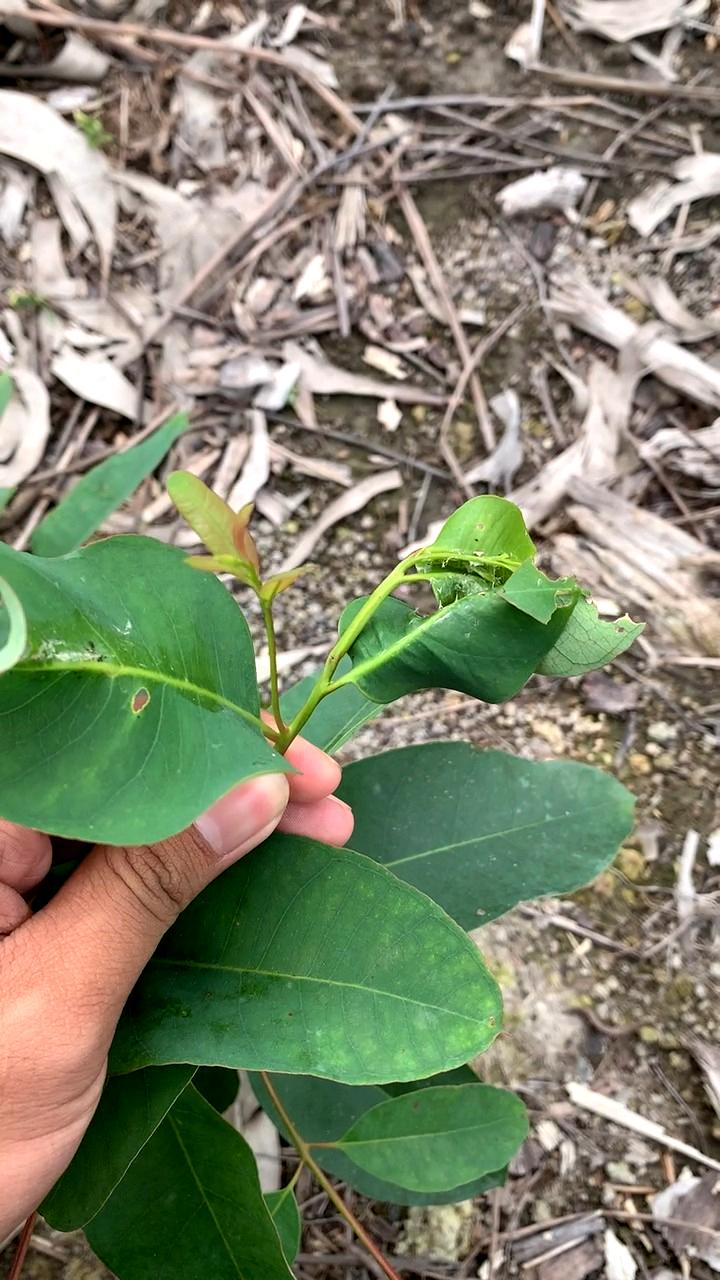Leaf Roller - Leaf: (360, 501, 649, 709)
